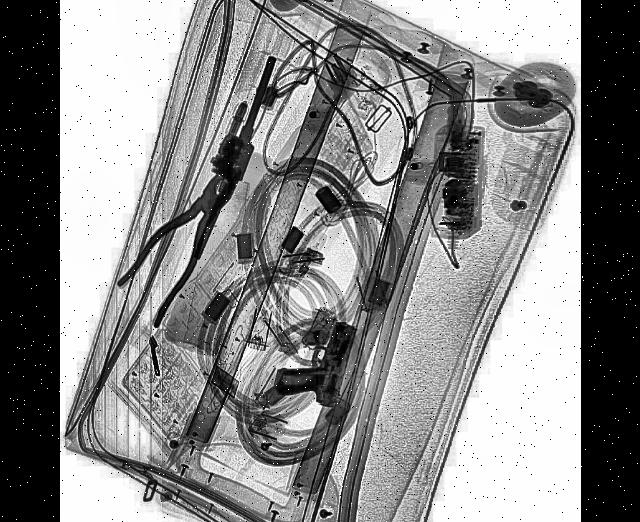Gun: (270, 296, 358, 420)
Pliers: (116, 139, 250, 331)
